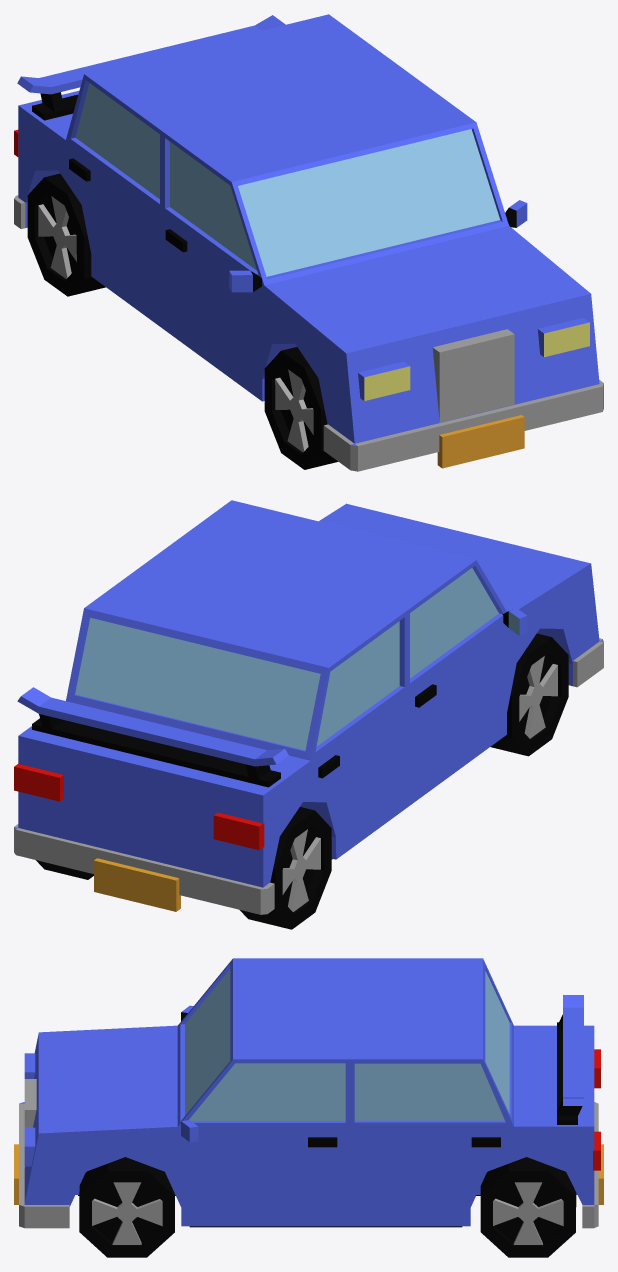
The model's file is car1.glb.
3 renders of one model, top to bottom at view 1: azimuth 30°, elevation 25°; view 2: azimuth 150°, elevation 25°; view 3: azimuth 270°, elevation 25°, orthographic. The views are drawn at different scales.
Parts seen in each view (by area): view 1: Wheels.001; view 2: Wheels.001; view 3: Wheels.001.
Boxes of the visible parts, box(x1,y1,x2,y2) form: Wheels.001: box(14, 14, 603, 471); Wheels.001: box(14, 500, 603, 929); Wheels.001: box(14, 958, 603, 1257).
Size of the model in its own units: 2.2 by 1.66 by 4.48.
